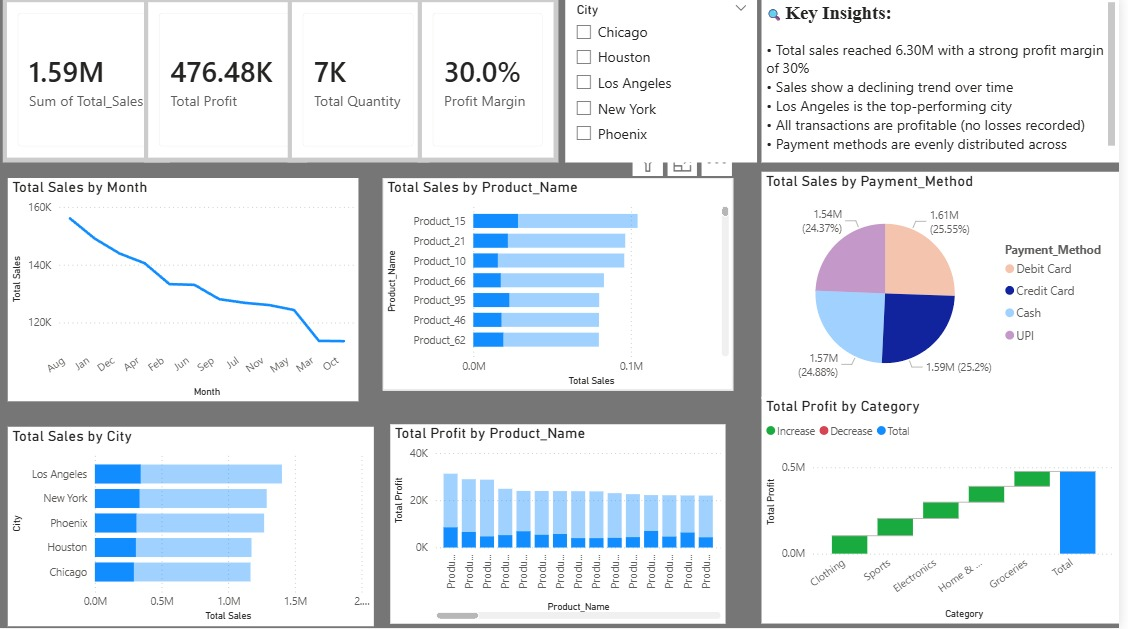

This screenshot's page, from the dashboard's own definition file:
{"tool":"powerbi","page":{"name":"Page 1","canvas":[1280,720],"ordinal":0},"visuals":[{"type":"cardVisual","fields":{"Data":["Sum(walmart_sales_ cleaned.Total_Sales)"]},"box":[4.1,0,190.7,188],"z":0},{"type":"cardVisual","fields":{"Data":["walmart_sales_ cleaned.Total Profit"]},"box":[166,0,186.6,188],"z":1000},{"type":"cardVisual","fields":{"Data":["walmart_sales_ cleaned.Total Quantity"]},"box":[329.3,0,161.9,188],"z":2000},{"type":"cardVisual","fields":{"Data":["walmart_sales_ cleaned.Profit Margin"]},"box":[478.9,0,160.5,188],"z":3000},{"type":"lineChart","fields":{"Category":["walmart_sales_ cleaned.Month"],"Y":["walmart_sales_ cleaned.Total Sales"]},"box":[9.5,206.3,419,242.6],"z":4000},{"type":"clusteredBarChart","fields":{"Category":["walmart_sales_ cleaned.Product_Name"],"Y":["walmart_sales_ cleaned.Total Sales"]},"box":[438.1,205.8,400.7,242.9],"z":5000},{"type":"pieChart","fields":{"Category":["walmart_sales_ cleaned.Payment_Method"],"Y":["walmart_sales_ cleaned.Total Sales"]},"box":[848.7,206.3,431.4,242.3],"z":6000},{"type":"barChart","fields":{"Category":["walmart_sales_ cleaned.City"],"Y":["walmart_sales_ cleaned.Total Sales"]},"box":[9.4,468.9,418.9,251.6],"z":7000},{"type":"slicer","fields":{"Values":["walmart_sales_ cleaned.City"]},"box":[647.7,0,219.6,188],"z":8000},{"type":"waterfallChart","fields":{"Category":["walmart_sales_ cleaned.Category"],"Y":["walmart_sales_ cleaned.Total Profit"]},"box":[848.7,468.9,431.4,251.6],"z":9000},{"type":"columnChart","fields":{"Category":["walmart_sales_ cleaned.Product_Name"],"Y":["walmart_sales_ cleaned.Total Profit"]},"box":[437.6,468.9,400.1,251.6],"z":10000},{"type":"textbox","box":[871,0,409,188],"z":11000}]}

Visuals, with their boxes in screenshot pixels (x1, y1, x2, y2), scaled from the page's 1280x720 canvas onto the 1128x629 screenshot:
cardVisual - Sum(walmart_sales_ cleaned.Total_Sales): 4,0,172,164
cardVisual - walmart_sales_ cleaned.Total Profit: 146,0,311,164
cardVisual - walmart_sales_ cleaned.Total Quantity: 290,0,433,164
cardVisual - walmart_sales_ cleaned.Profit Margin: 422,0,563,164
lineChart - walmart_sales_ cleaned.Month x walmart_sales_ cleaned.Total Sales: 8,180,378,392
clusteredBarChart - walmart_sales_ cleaned.Product_Name x walmart_sales_ cleaned.Total Sales: 386,180,739,392
pieChart - walmart_sales_ cleaned.Payment_Method x walmart_sales_ cleaned.Total Sales: 748,180,1127,392
barChart - walmart_sales_ cleaned.City x walmart_sales_ cleaned.Total Sales: 8,410,377,628
slicer - walmart_sales_ cleaned.City: 571,0,764,164
waterfallChart - walmart_sales_ cleaned.Category x walmart_sales_ cleaned.Total Profit: 748,410,1127,628
columnChart - walmart_sales_ cleaned.Product_Name x walmart_sales_ cleaned.Total Profit: 386,410,738,628
textbox: 768,0,1127,164
